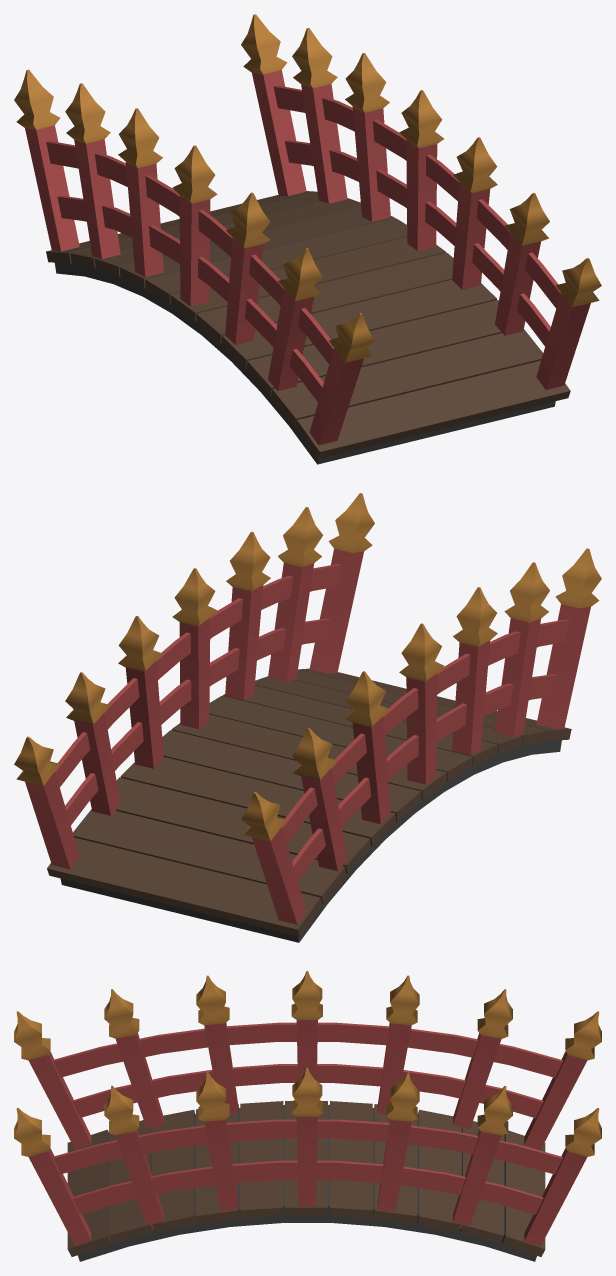
Rendered from FMP_Bridge_Small_Shaded_2.fbx.
3 views of the same model, one above another, from view 1: azimuth 30°, elevation 25°; view 2: azimuth 150°, elevation 25°; view 3: azimuth 270°, elevation 25° (orthographic). The views are drawn at different scales.
Parts seen in each view (by area): view 1: polySurface63; view 2: polySurface63; view 3: polySurface63.
Boxes of the visible parts, x1,y1,x2,y2 form: polySurface63: [14, 14, 601, 464]; polySurface63: [14, 493, 601, 942]; polySurface63: [14, 971, 601, 1261].
Size of the model in its own units: 385 by 320 by 883.
